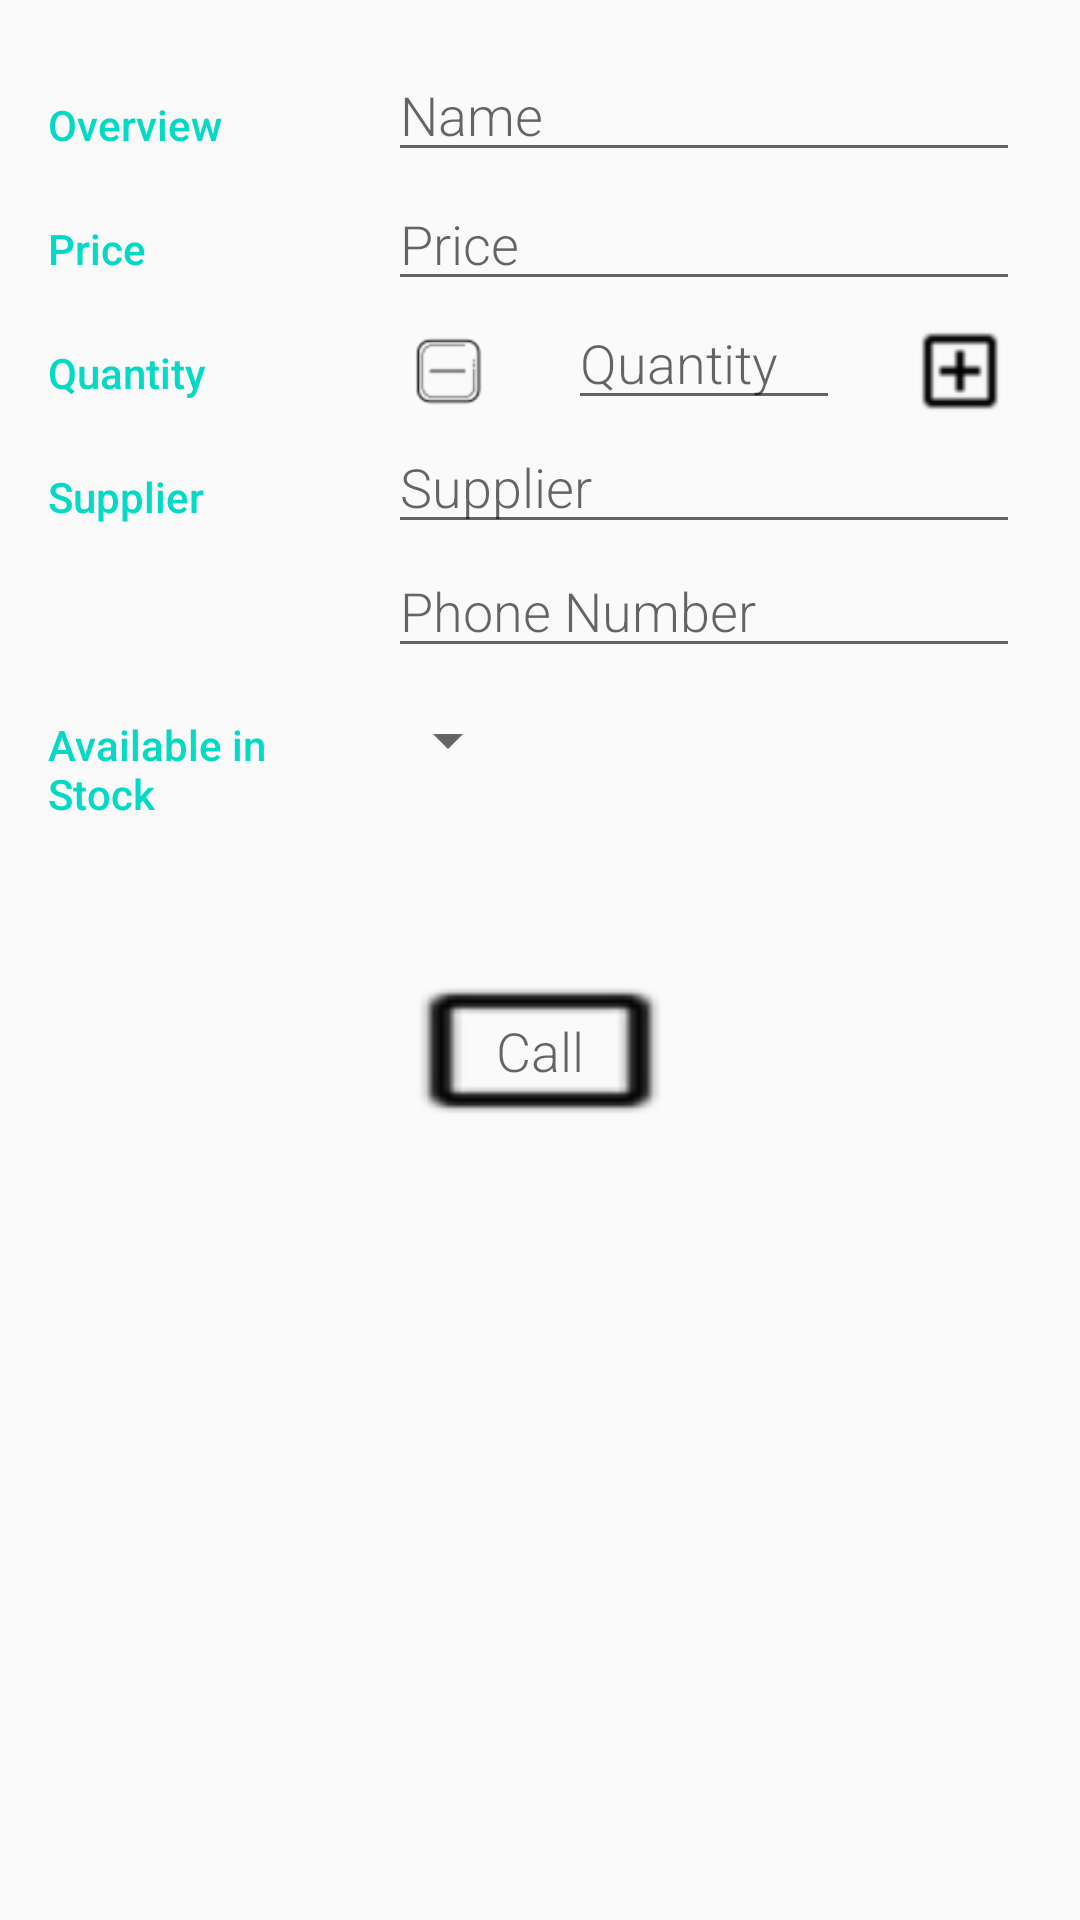

Screen size 1080×1920. Icon name, then its center in pixels as [x,y]:
minus: [448,371]
sum: [960,371]
